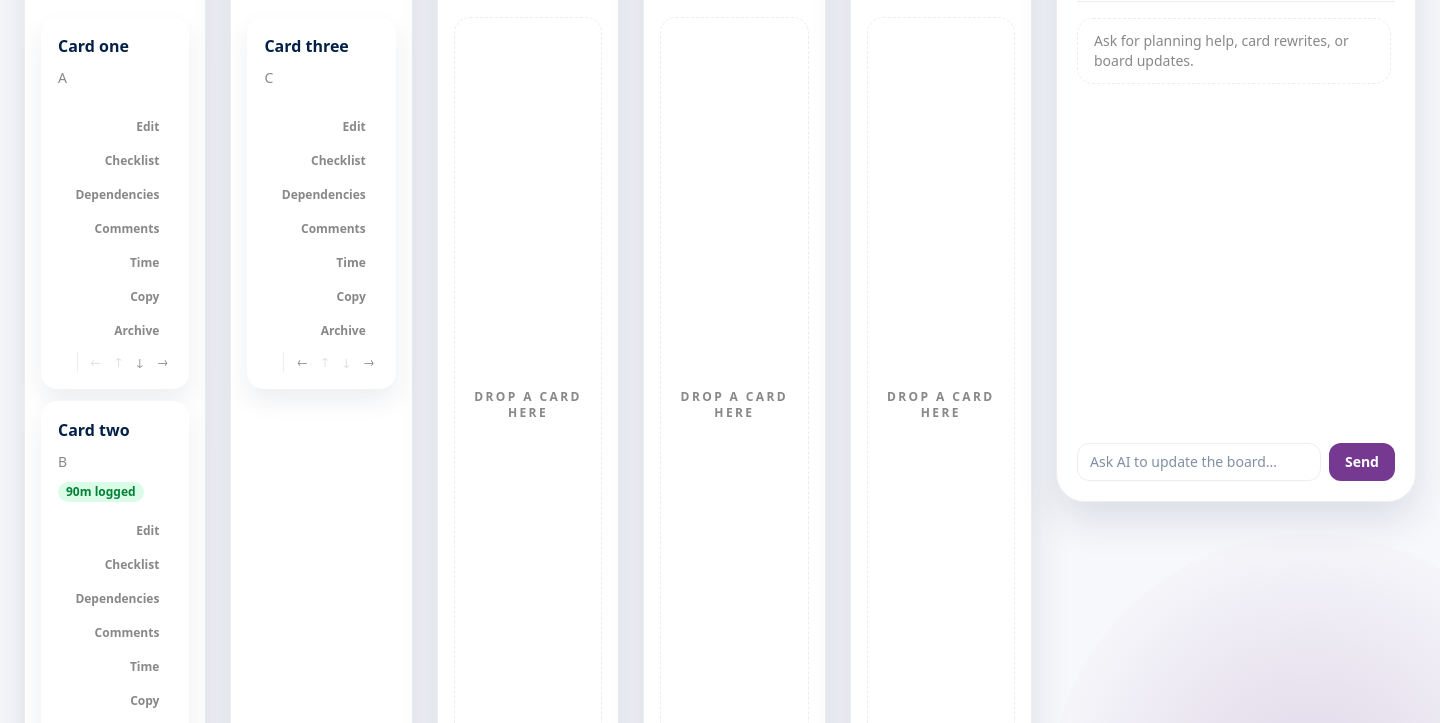
it: KanbanBoard › shows fallback status when API error payload is not json
(page scrolled)
Step 1. Click the button with aria-label "archive card one" → {"x": 137, "y": 331}, box [101, 318, 172, 344]
(page scrolled)
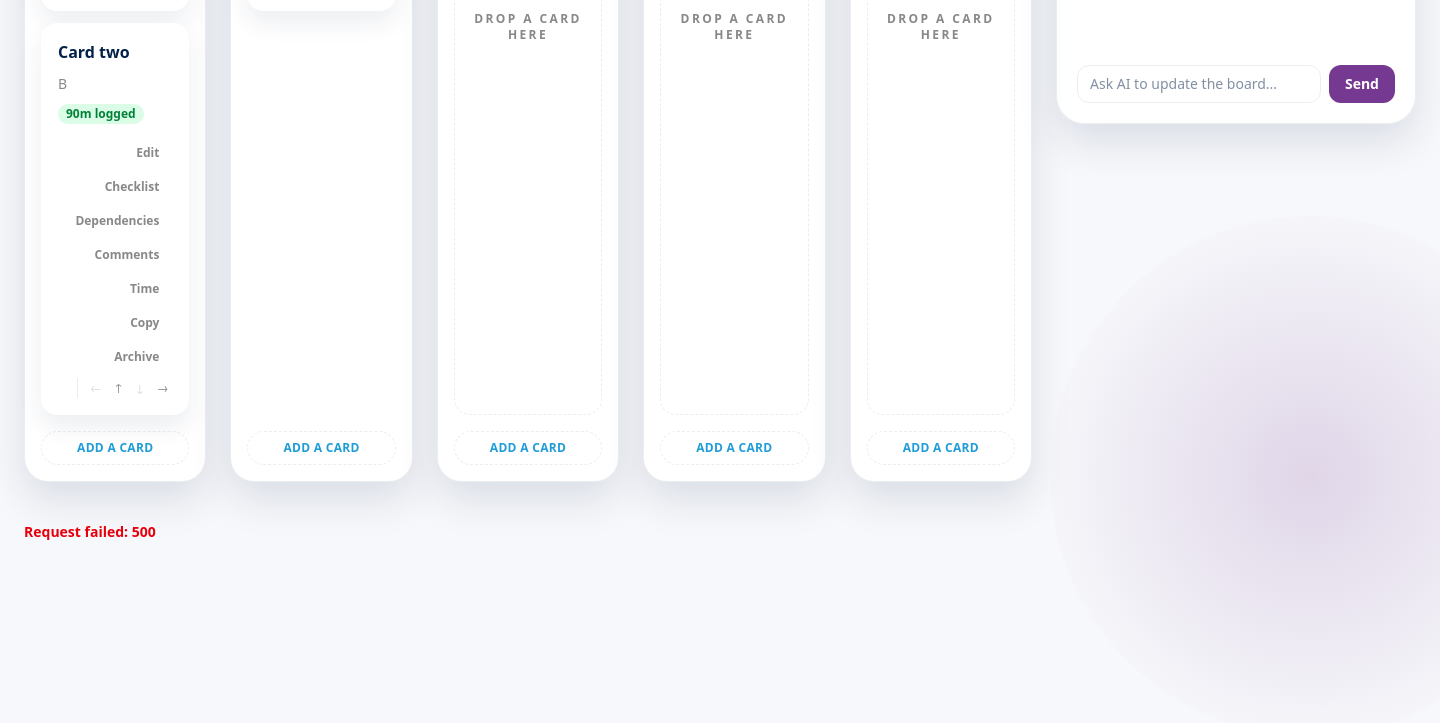
Check: the message reads "Request failed: 500", box [24, 522, 156, 541]
